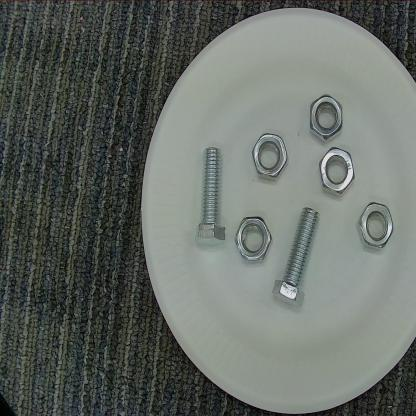FOD: (272, 200, 323, 318), (185, 145, 231, 254), (246, 129, 297, 188), (354, 199, 398, 260), (313, 145, 358, 202), (304, 91, 348, 146), (233, 211, 274, 268)
